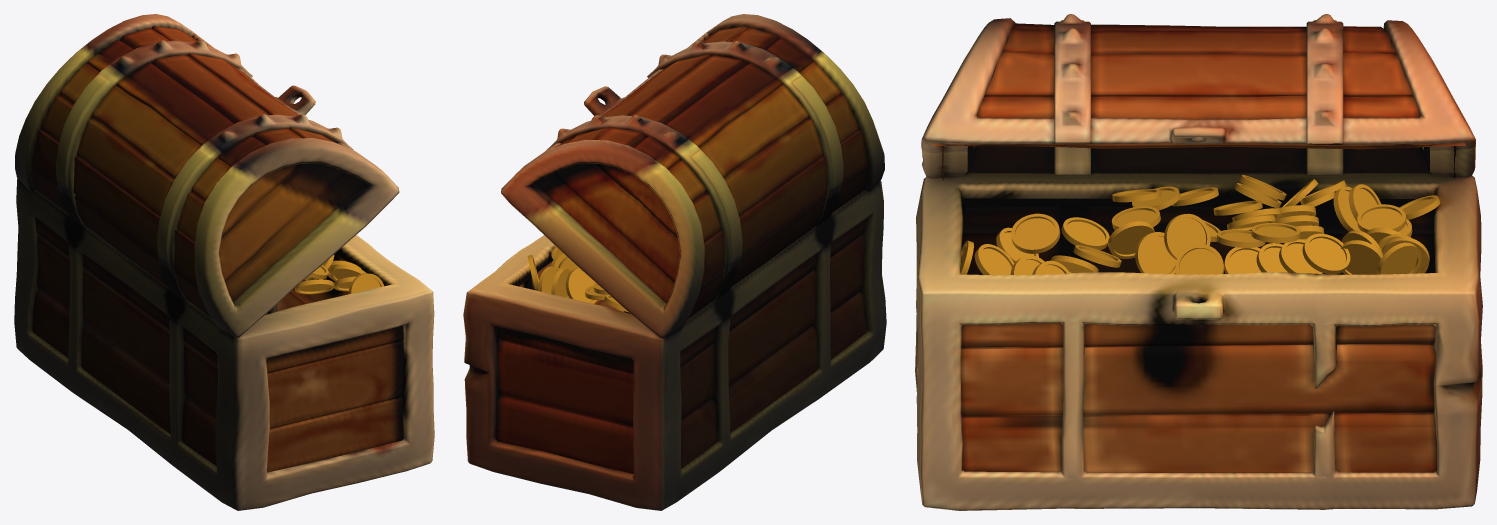
Rendered from chest_hp.obj.
3 renders of one model, left to right at view 1: azimuth 30°, elevation 25°; view 2: azimuth 150°, elevation 25°; view 3: azimuth 270°, elevation 25°, orthographic. The views are drawn at different scales.
Visible parts, largest first — view 1: Chest_Base, Chest_Lid, coin.014; view 2: Chest_Base, Chest_Lid, coin.014; view 3: Chest_Base, Chest_Lid, coin.014.
Part boxes in pixels (left/top/right/bottom): Chest_Base: left=14, top=179, right=434, bottom=510; Chest_Lid: left=15, top=14, right=399, bottom=337; coin.014: left=295, top=255, right=383, bottom=294; Chest_Base: left=463, top=180, right=886, bottom=510; Chest_Lid: left=501, top=14, right=884, bottom=338; coin.014: left=527, top=246, right=628, bottom=312; Chest_Base: left=915, top=172, right=1482, bottom=510; Chest_Lid: left=921, top=14, right=1475, bottom=180; coin.014: left=960, top=175, right=1440, bottom=274.
Size of the model in its own units: 0.5461 by 0.7573 by 0.9269.
2 materials, 1 textured.
